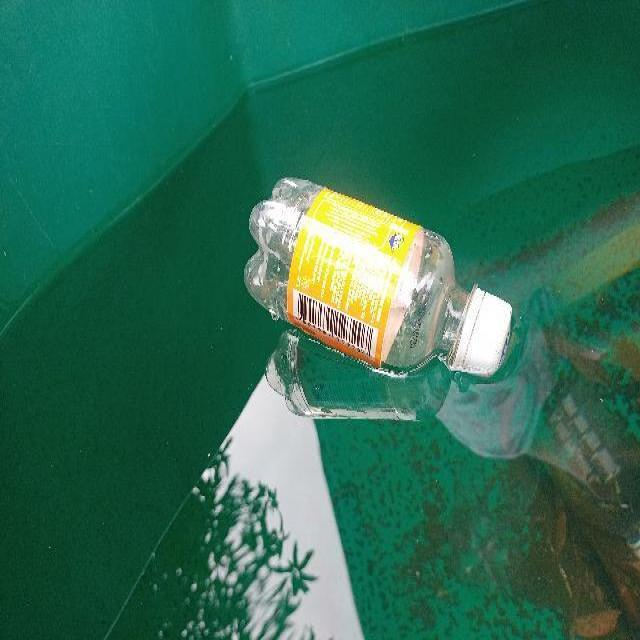Bottle: (238, 165, 519, 399)
